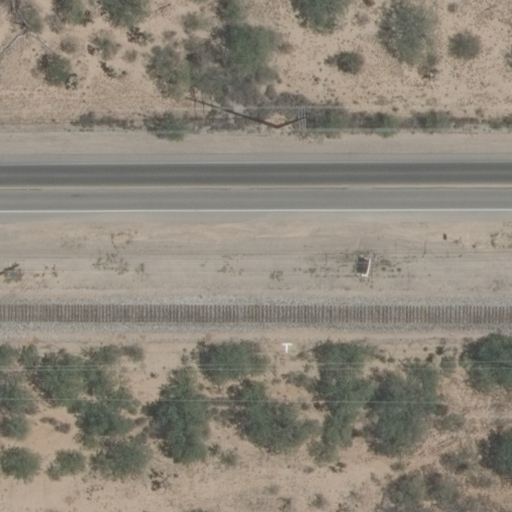DT: (275, 110, 308, 130)
